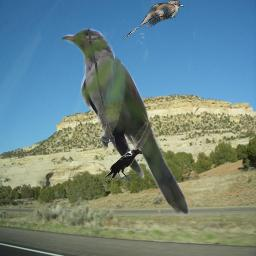Crow: (103, 147, 142, 181)
Cuckoo: (62, 28, 195, 217), (123, 0, 184, 40)
